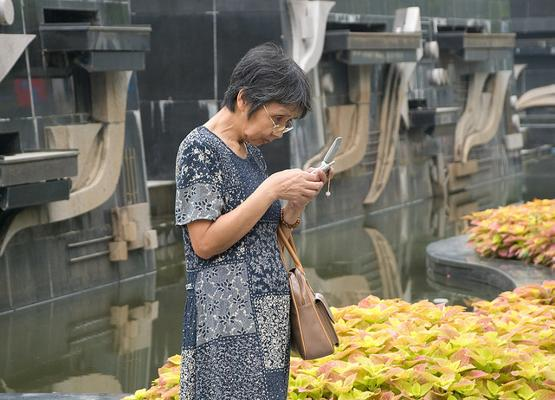person: (175, 44, 336, 400)
